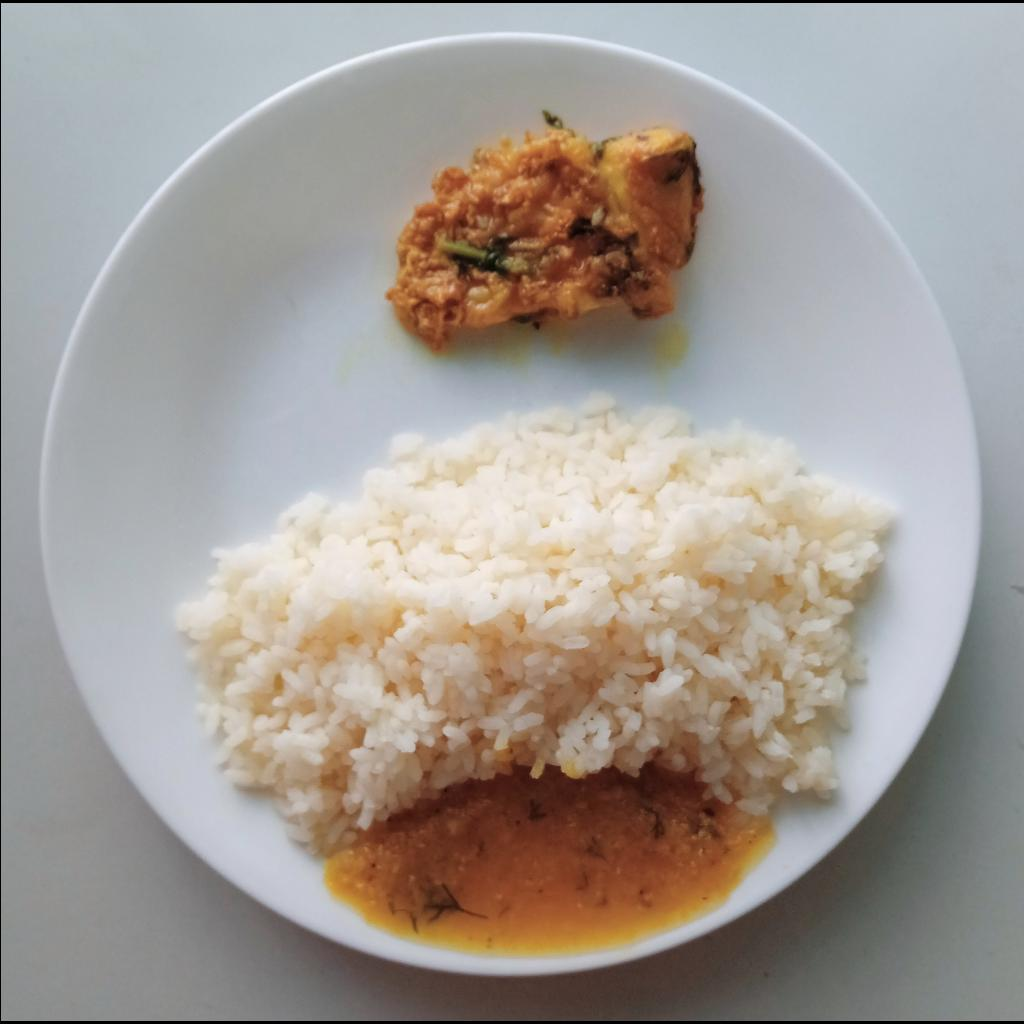daal: (323, 770, 768, 946)
fish: (380, 110, 707, 351)
rice: (173, 396, 895, 854)
